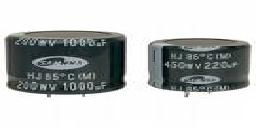Electrolytic-Capacitor: (1, 27, 133, 105), (147, 36, 252, 104)
